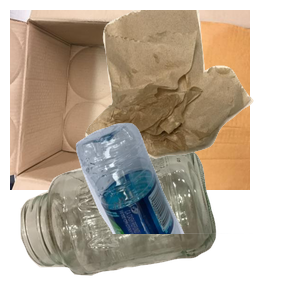cardboard: (10, 10, 250, 190)
glass: (18, 143, 227, 300)
plastic: (73, 120, 300, 300)
trash: (83, 10, 300, 163)
